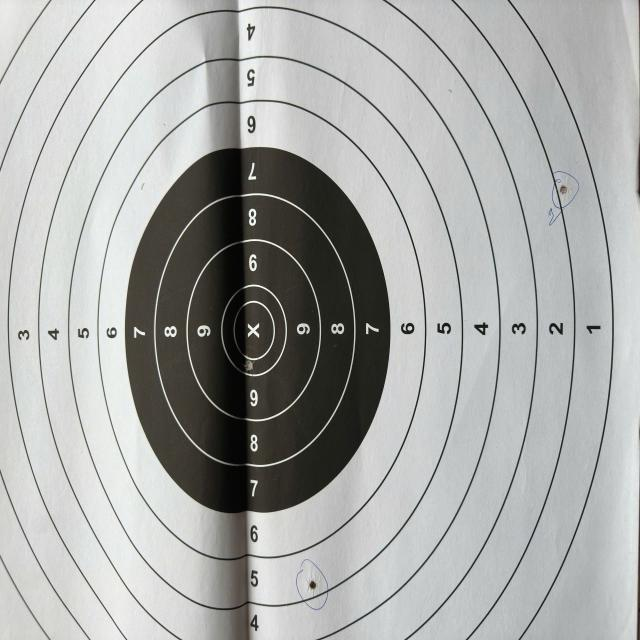bullet: (556, 180, 572, 196), (244, 360, 252, 372), (308, 580, 316, 591)
